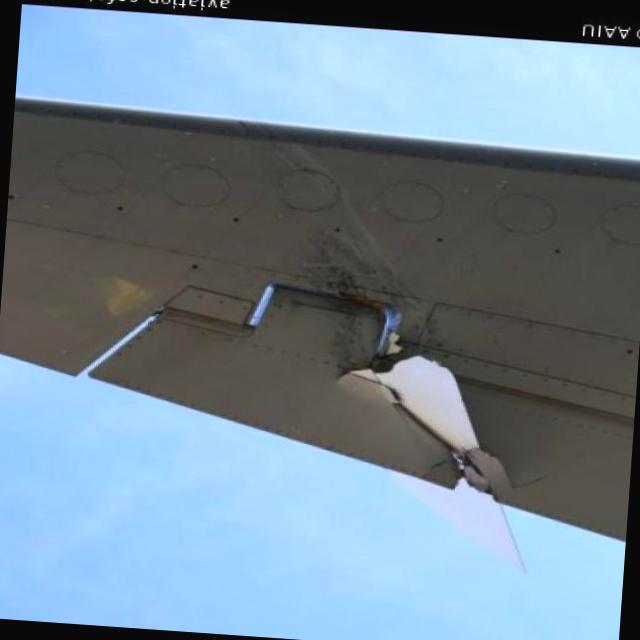crack: (333, 342, 518, 502)
